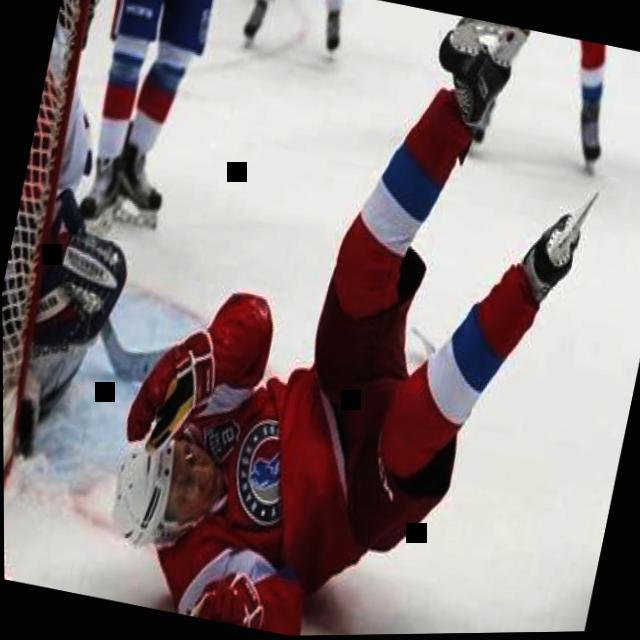Fall-Detected: (74, 0, 640, 639)
